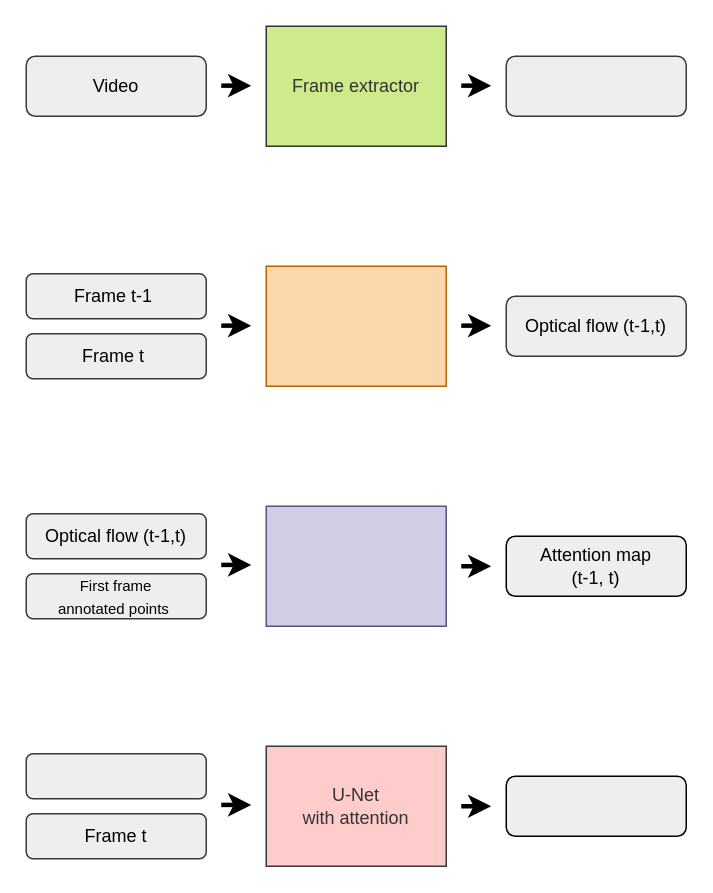
Image size: 713x893. Some labels were removed from this diagram. Each missing label, with the centre of its shape:
Attention map (t-1,t): the point at 115,775
Attention map creator: the point at 355,565
Frame t-1 Frame t: the point at 595,85
RAFT: the point at 355,325
Segmentation mask: the point at 595,805
